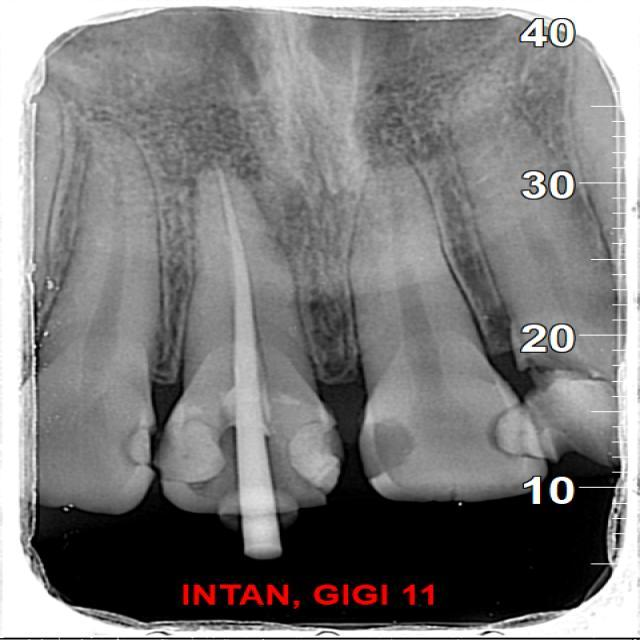individual-tooth-8tto: (347, 146, 558, 507), (153, 163, 336, 517)
